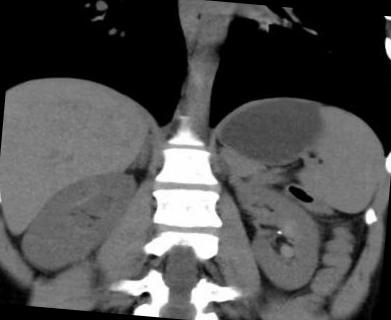Tas_Var: (275, 229, 283, 236)
